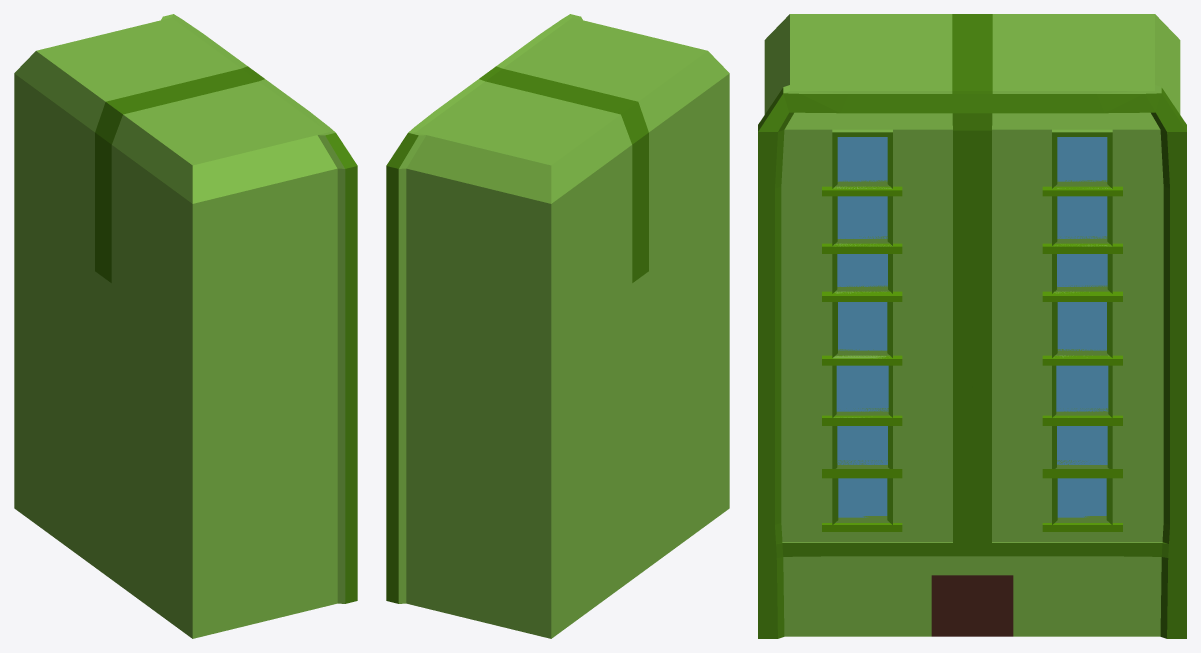
The model's file is green building.fbx.
3 renders of one model, left to right at view 1: azimuth 30°, elevation 25°; view 2: azimuth 150°, elevation 25°; view 3: azimuth 270°, elevation 25°, orthographic. The views are drawn at different scales.
Visible parts, largest first — view 1: Cube; view 2: Cube; view 3: Cube.
Part boxes in pixels (box(x1,y1,x2,y2)): Cube: box(14, 14, 357, 638); Cube: box(386, 14, 729, 638); Cube: box(758, 14, 1186, 638).
Bounding box in the file's own units: 3724 × 9377 × 6744.
